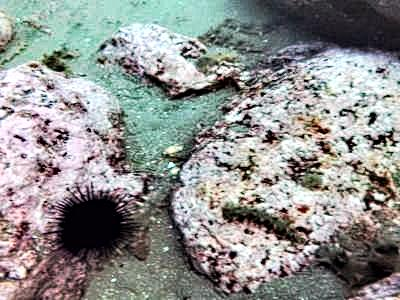urchin: (38, 179, 139, 262)
